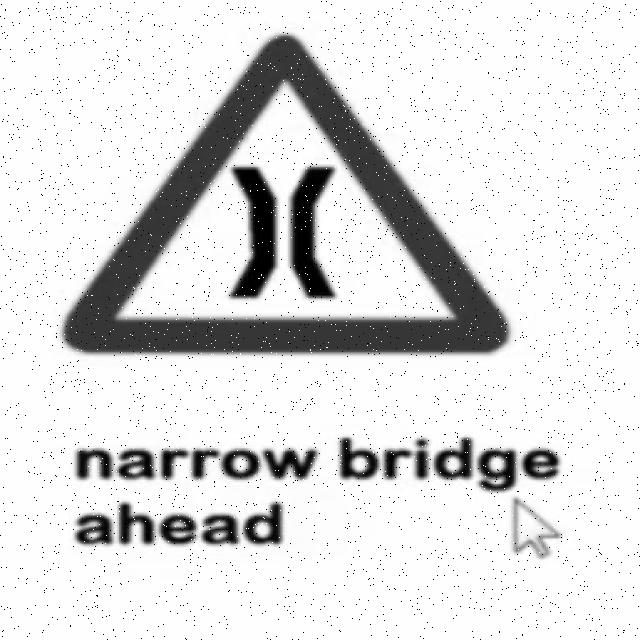Narrow_Bridge: (65, 35, 509, 354)
